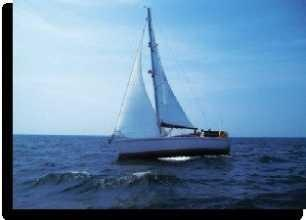fanchuan: (107, 5, 234, 162)
